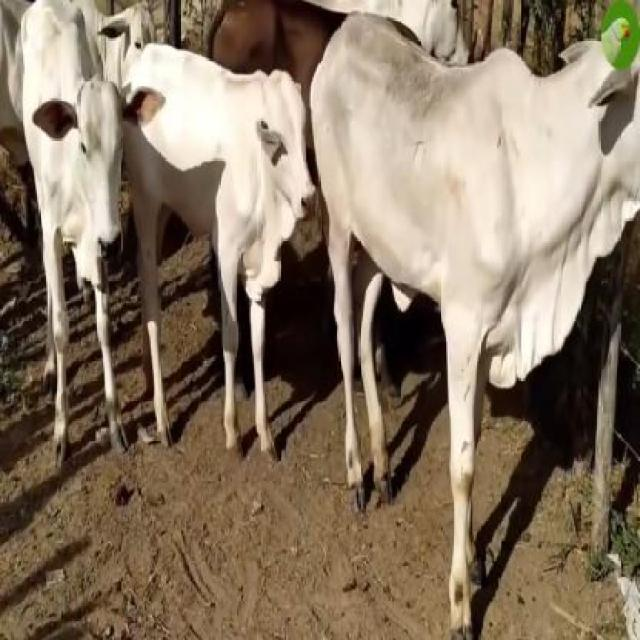Cow: (122, 43, 320, 454), (3, 0, 168, 471)
